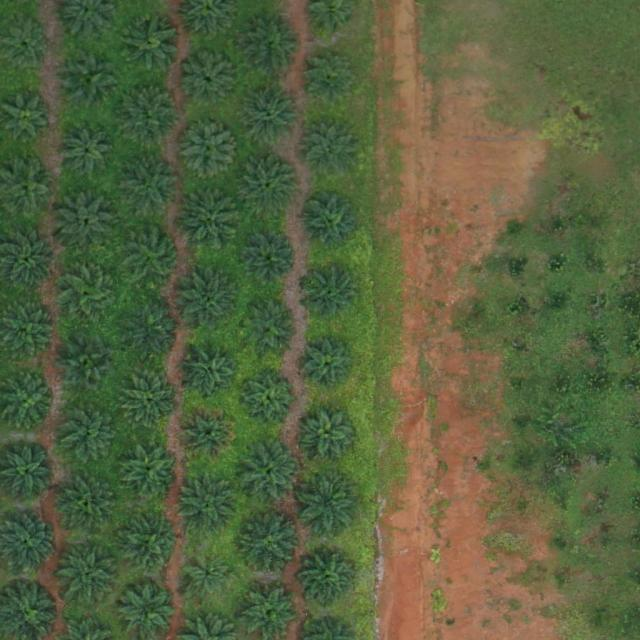Healthy: (59, 49, 122, 112), (55, 187, 118, 250), (242, 85, 305, 148), (237, 442, 300, 505), (119, 514, 182, 577), (57, 543, 120, 606), (240, 15, 302, 78), (119, 82, 181, 145), (122, 158, 184, 221), (124, 225, 186, 288), (123, 300, 185, 363), (179, 119, 241, 182), (178, 189, 240, 252), (179, 272, 241, 335), (238, 154, 300, 217), (300, 191, 362, 254), (297, 472, 359, 535), (119, 441, 181, 504), (60, 401, 122, 464), (58, 474, 120, 537), (119, 13, 181, 75), (239, 514, 301, 576), (178, 475, 240, 537), (183, 54, 238, 110), (61, 126, 116, 181), (60, 264, 115, 319), (62, 339, 117, 394), (241, 232, 296, 287), (243, 302, 298, 357), (303, 51, 358, 106), (303, 123, 358, 178), (305, 267, 360, 322), (303, 338, 358, 393), (184, 347, 239, 402), (303, 407, 358, 462), (124, 374, 179, 429), (2, 233, 56, 288), (303, 555, 357, 610), (242, 371, 296, 426), (121, 584, 175, 639), (4, 93, 51, 140)
Small: (186, 555, 233, 602)
Yellow: (182, 408, 236, 463)
